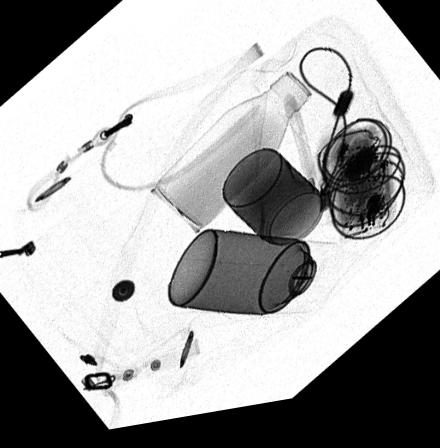Sprayer: (165, 236, 334, 323)
